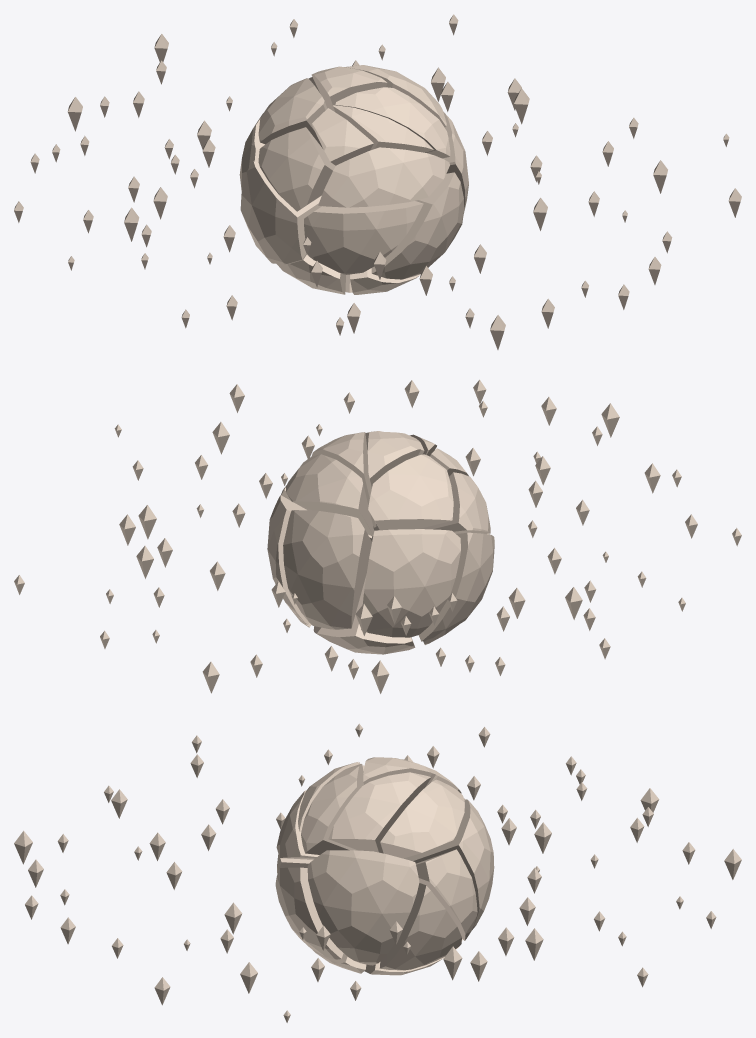
Rendered from planet_3(pivot_for_animation).fbx.
3 views of the same model, one above another, from view 1: azimuth 30°, elevation 25°; view 2: azimuth 150°, elevation 25°; view 3: azimuth 270°, elevation 25° (orthographic). The views are drawn at different scales.
Parts seen in each view (by area): view 1: planet3, planet3_rings; view 2: planet3, planet3_rings; view 3: planet3, planet3_rings.
Part boxes in pixels (x1,y1,x2,y2): planet3: (239, 65, 468, 294); planet3_rings: (14, 14, 741, 349); planet3: (267, 431, 494, 654); planet3_rings: (14, 379, 741, 693); planet3: (275, 757, 494, 975); planet3_rings: (14, 723, 741, 1022).
Size of the model in its own units: 1033 by 336 by 1098.
